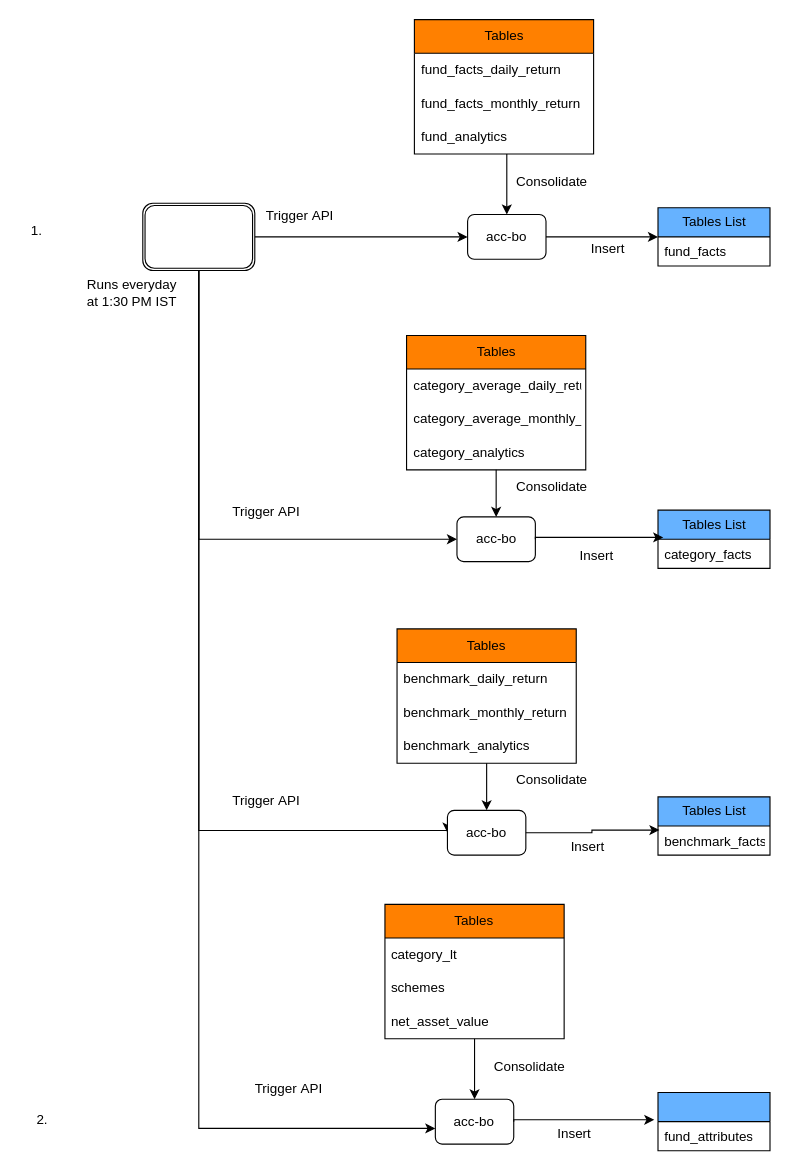
This 790x1174 diagram has some shape labels left out. Here are the shapes that lost their labels. From the top down, the box of each, then its label:
(142, 202, 255, 270): Kestra scheduled job
(657, 1091, 770, 1151): Materialized View
